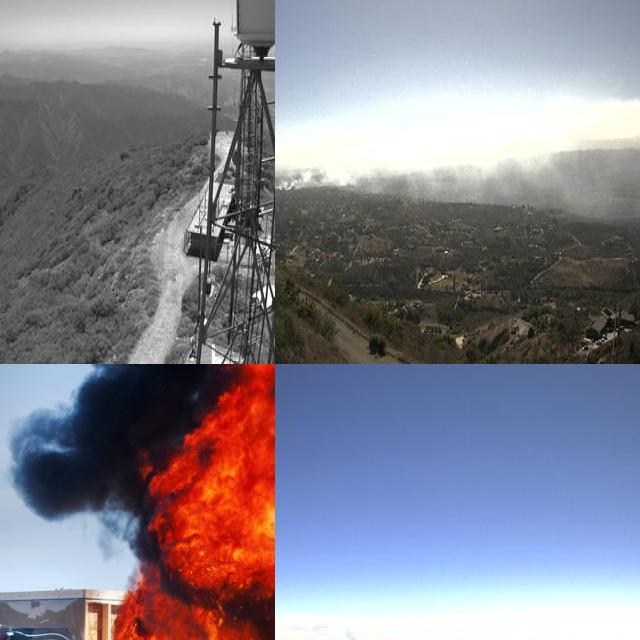fire: (114, 364, 275, 640)
smoke: (275, 98, 640, 220), (11, 364, 238, 516), (341, 619, 361, 640)
